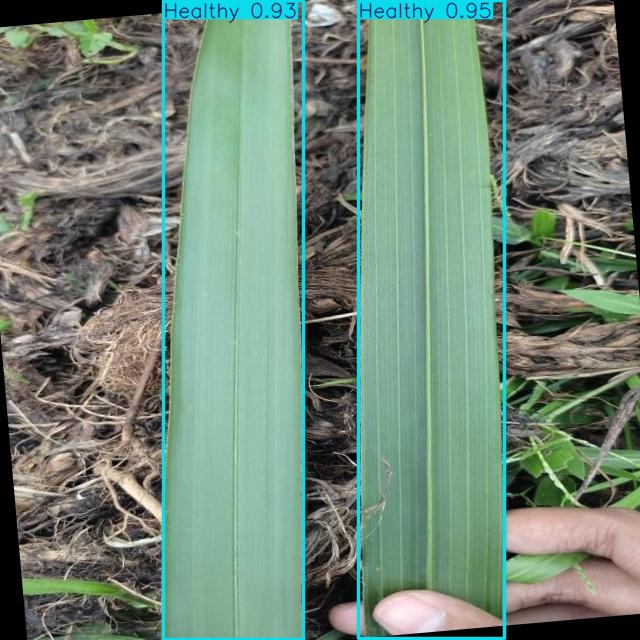Healthy: (359, 0, 505, 639), (163, 0, 304, 640)
